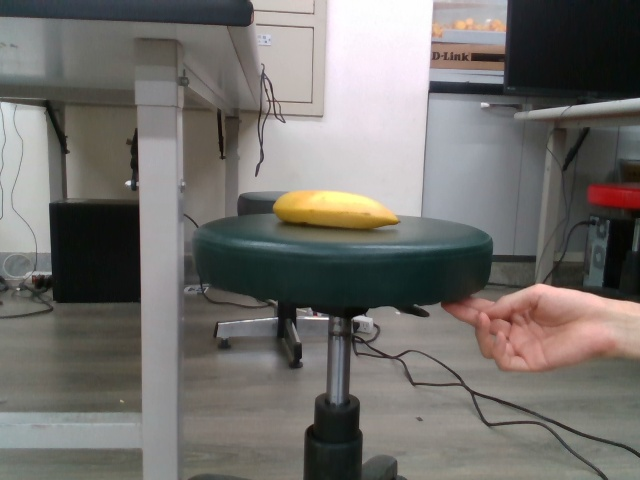banana: (272, 189, 402, 231)
